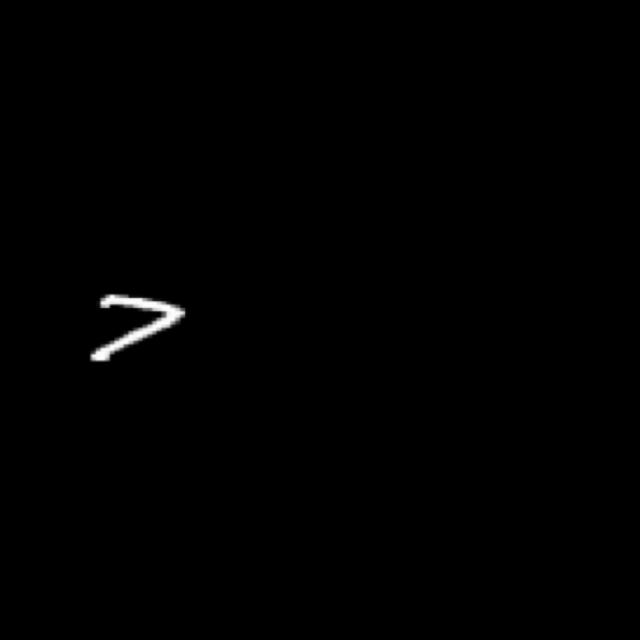seven -7-: (86, 284, 184, 376)
